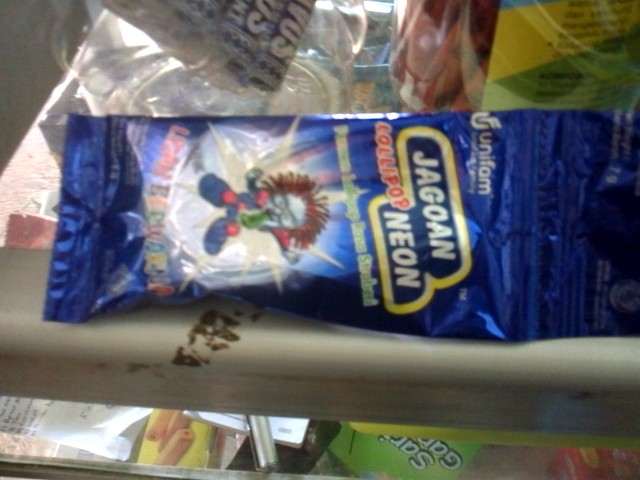jagoan neon: (42, 109, 547, 343)
